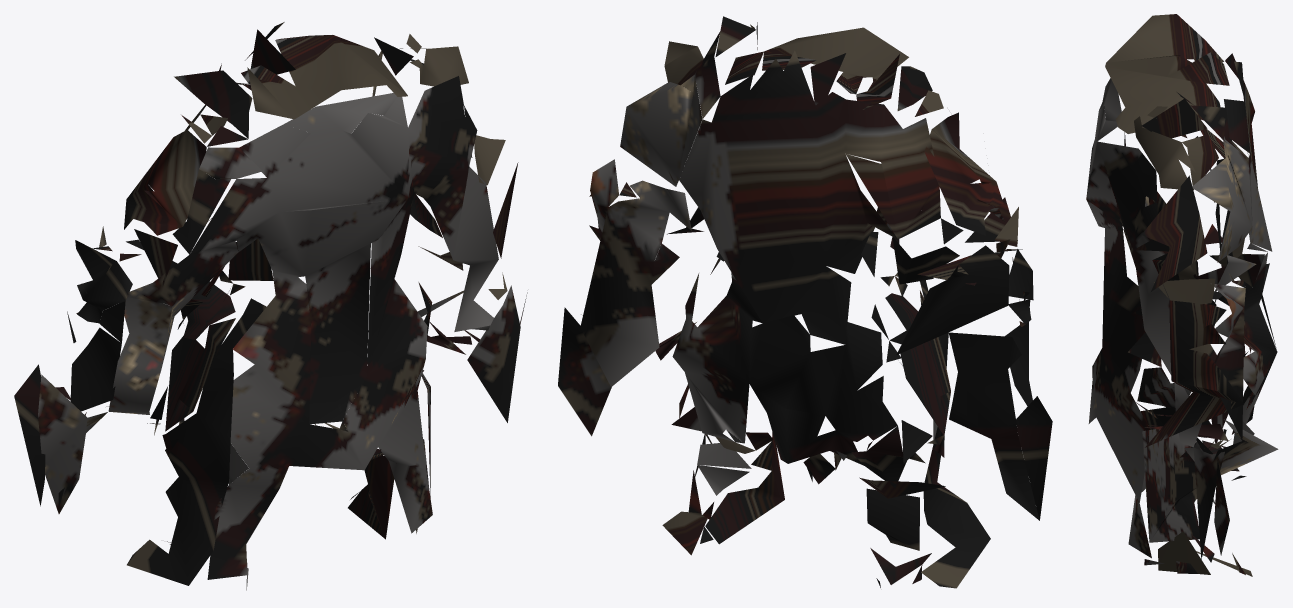
The picture shows the model from 3 angles, left to right: view 1: azimuth 30°, elevation 25°; view 2: azimuth 150°, elevation 25°; view 3: azimuth 270°, elevation 25°; orthographic projection. The views are drawn at different scales.
Visible parts, largest first — view 1: body.002; view 2: body.002; view 3: body.002.
Part boxes in pixels (bbox=[...]): body.002: bbox=[14, 22, 527, 590]; body.002: bbox=[558, 16, 1052, 588]; body.002: bbox=[1086, 14, 1278, 576].
Size of the model in its own units: 2.03 by 2.02 by 0.7169.
Materials: 1 (1 with a texture image).
